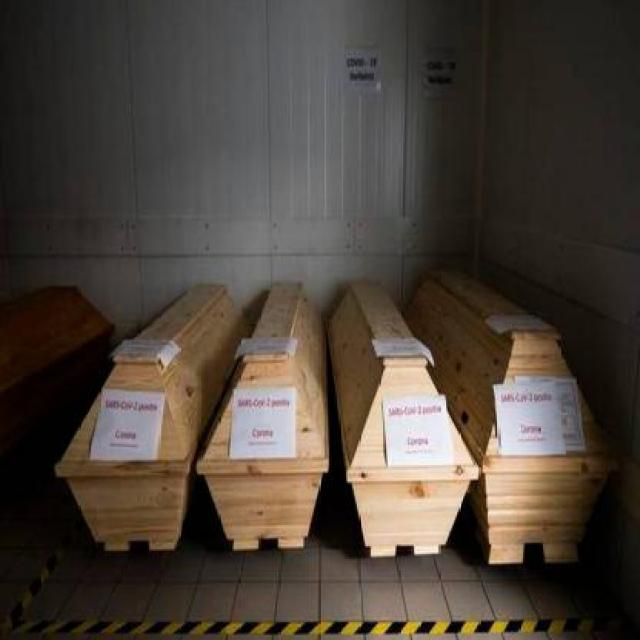box: (428, 180, 622, 611), (310, 221, 482, 600), (55, 231, 223, 594), (192, 248, 328, 572)
